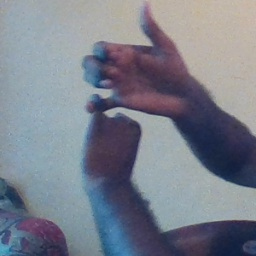S: (73, 6, 193, 180)
